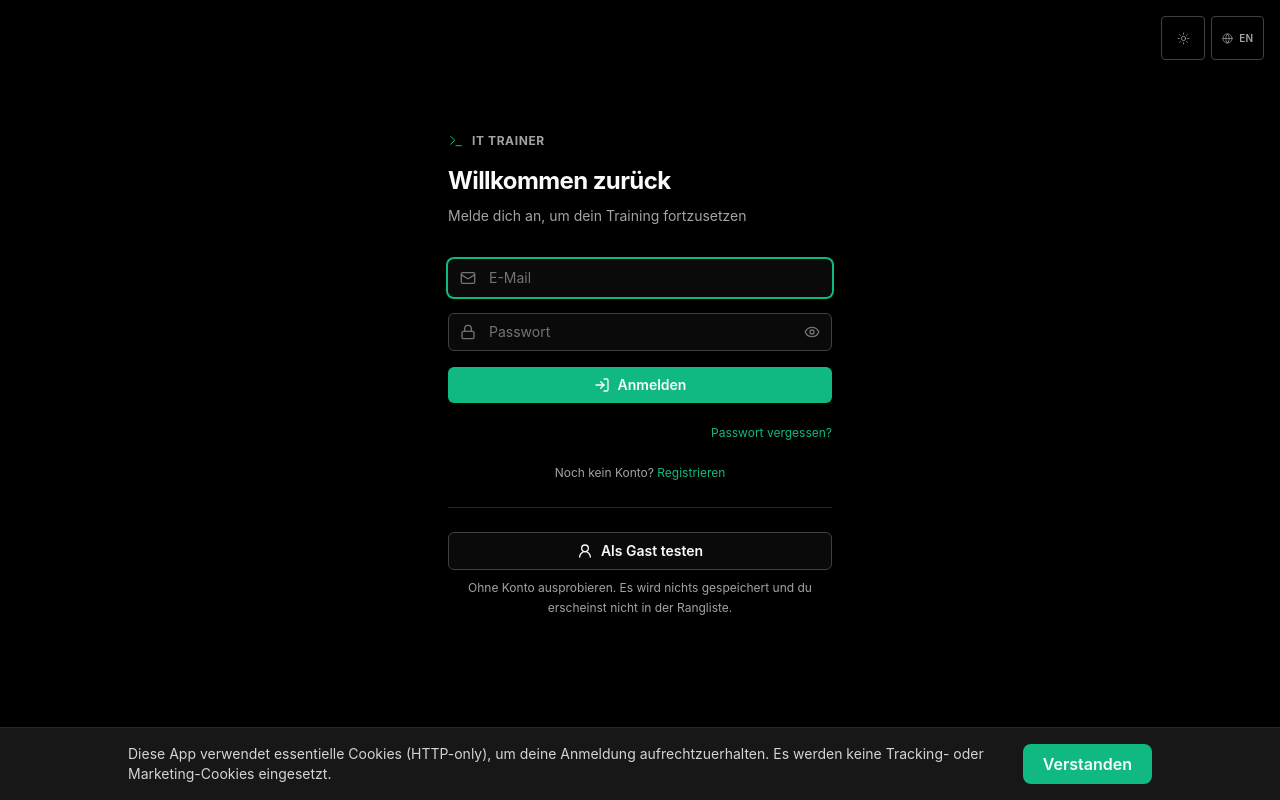
it: App without the GameHud (US-45) › renders no toast when the answer carried no unlock
Expected: the heading "Willkommen zurück" is shown, [448,166,670,195]
Type "test@example.com" into the field labelled "E-Mail" at {"x": 640, "y": 278}, box [448,259,832,297]
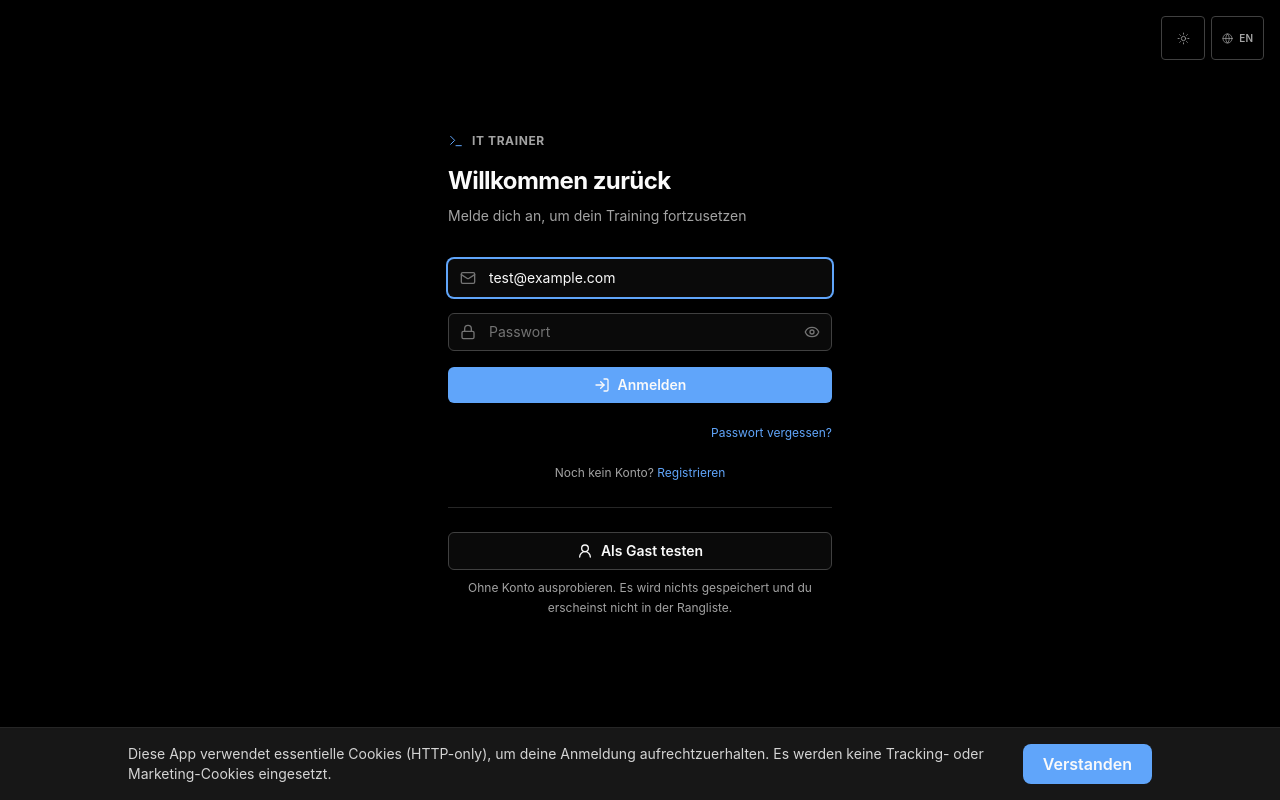
Type "Test1234!" into the password field labelled "Passwort" at {"x": 640, "y": 332}, box [448,313,832,351]
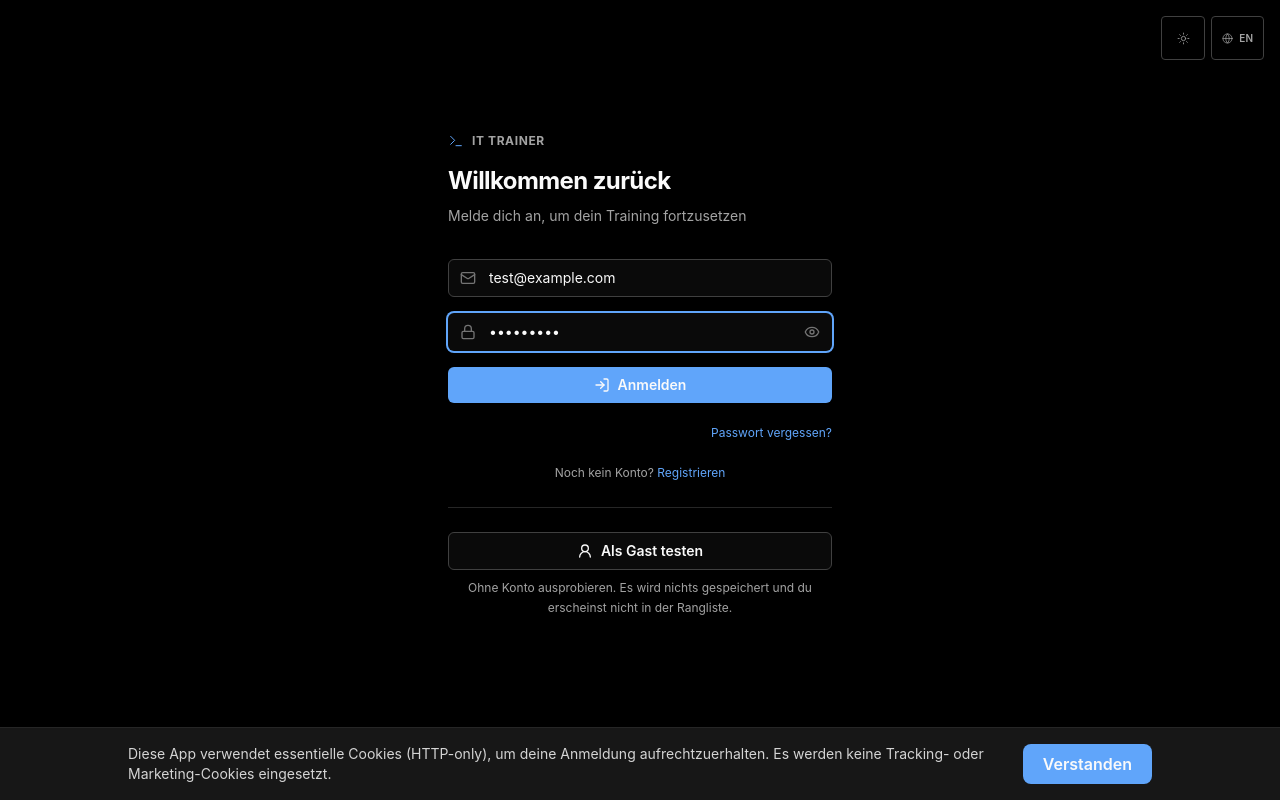
Click the button "Anmelden" at {"x": 640, "y": 385}, box [448,367,832,403]
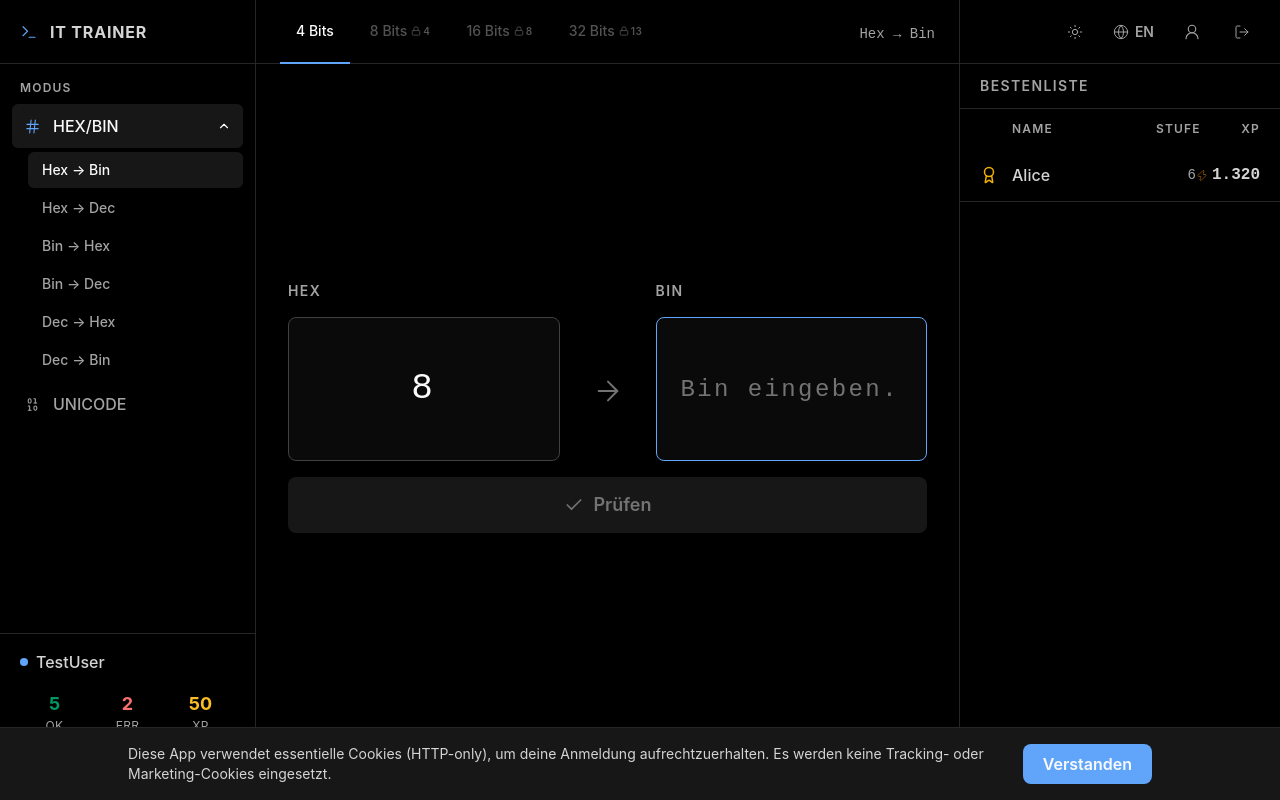
Result: the element named "hex/binary trainer" is shown at [256,0,959,750]
Type "1000" into the field at {"x": 791, "y": 389}, box [680,372,902,406]
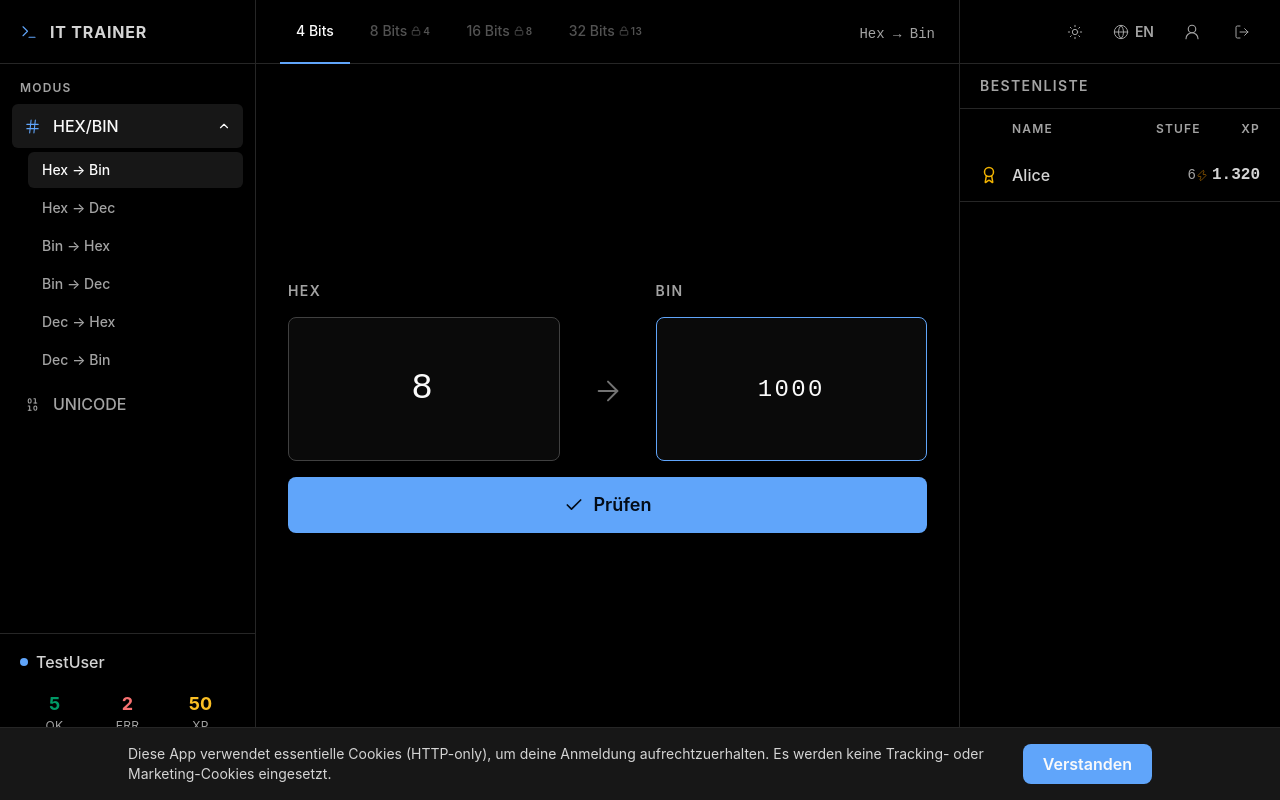
Click the button with aria-label "check answer" at {"x": 608, "y": 505}, box [288,477,927,533]
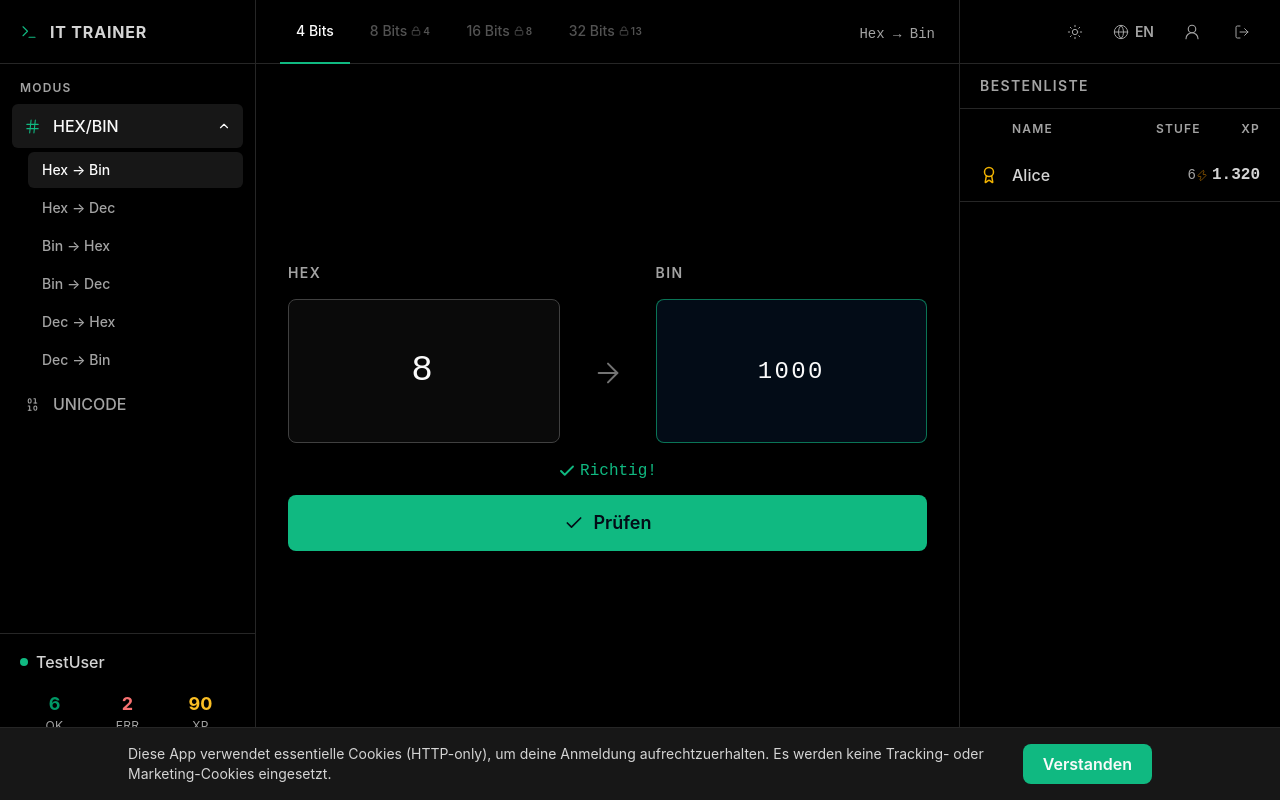
Result: the element named "Your statistics" reads "6 OK 2 ERR 90 XP" at [46,693,212,733]
